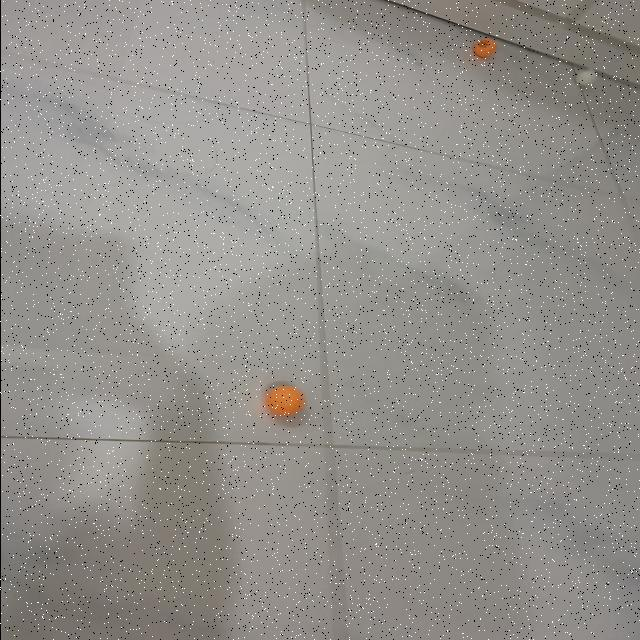ping-pong-ball: (266, 386, 304, 414), (472, 39, 497, 57), (573, 70, 597, 86)
